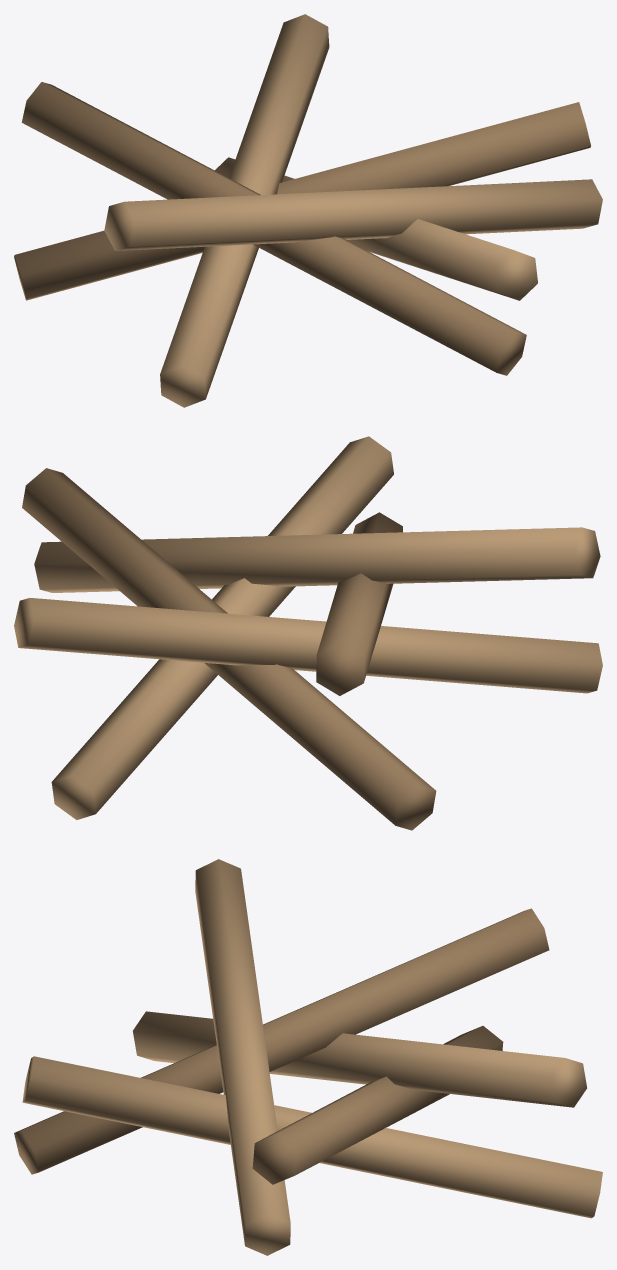
The model's file is branch_pile.glb.
3 renders of one model, top to bottom at view 1: azimuth 30°, elevation 25°; view 2: azimuth 150°, elevation 25°; view 3: azimuth 270°, elevation 25°, orthographic. The views are drawn at different scales.
Parts seen in each view (by area): view 1: Branch4, Branch3, Branch1, Branch2, Branch0; view 2: Branch2, Branch4, Branch1, Branch0, Branch3; view 3: Branch0, Branch3, Branch4, Branch2, Branch1.
Boxes of the visible parts, x1,y1,x2,y2 form: Branch4: (104, 179, 602, 250); Branch3: (21, 82, 526, 375); Branch1: (14, 102, 590, 300); Branch2: (160, 14, 329, 407); Branch0: (215, 157, 537, 300); Branch2: (14, 598, 602, 693); Branch4: (34, 527, 600, 592); Branch1: (22, 468, 436, 830); Branch0: (51, 436, 393, 819); Branch3: (316, 512, 402, 695); Branch0: (22, 1056, 602, 1218); Branch3: (14, 908, 549, 1174); Branch4: (195, 859, 290, 1255); Branch2: (133, 1011, 586, 1107); Branch1: (252, 1026, 503, 1184).
Size of the model in its own units: 1 by 0.4068 by 1.01.
